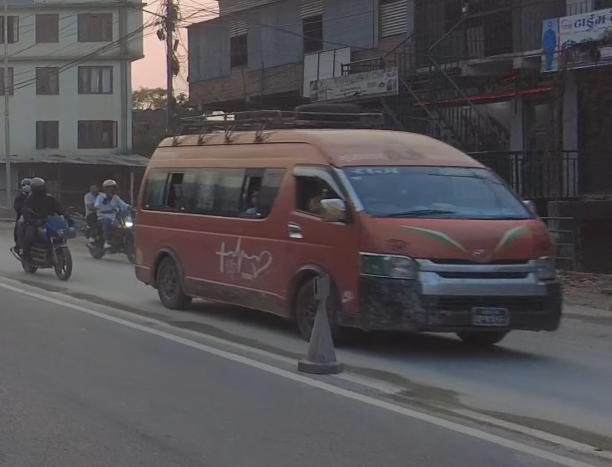bike: (11, 210, 79, 284), (85, 204, 140, 270)
micro_bus: (131, 103, 567, 355)
